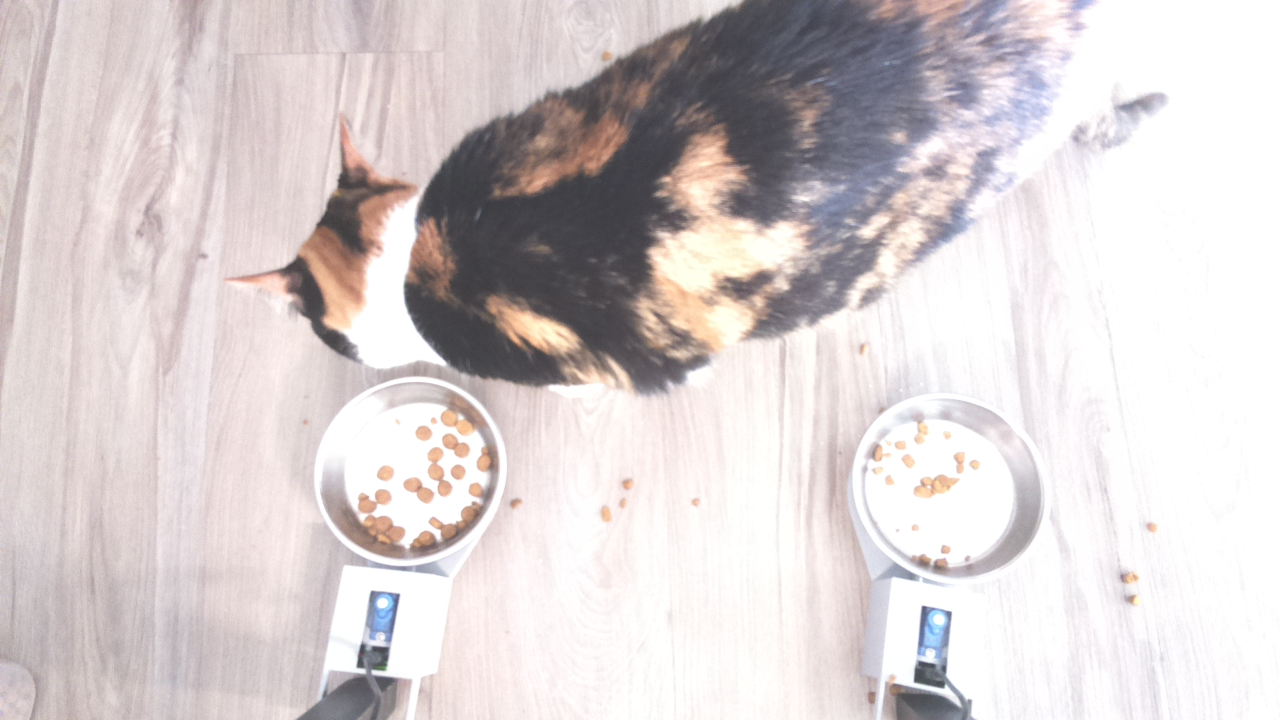bella: (228, 111, 536, 396)
open_bowl: (314, 366, 509, 571), (844, 391, 1045, 585)
